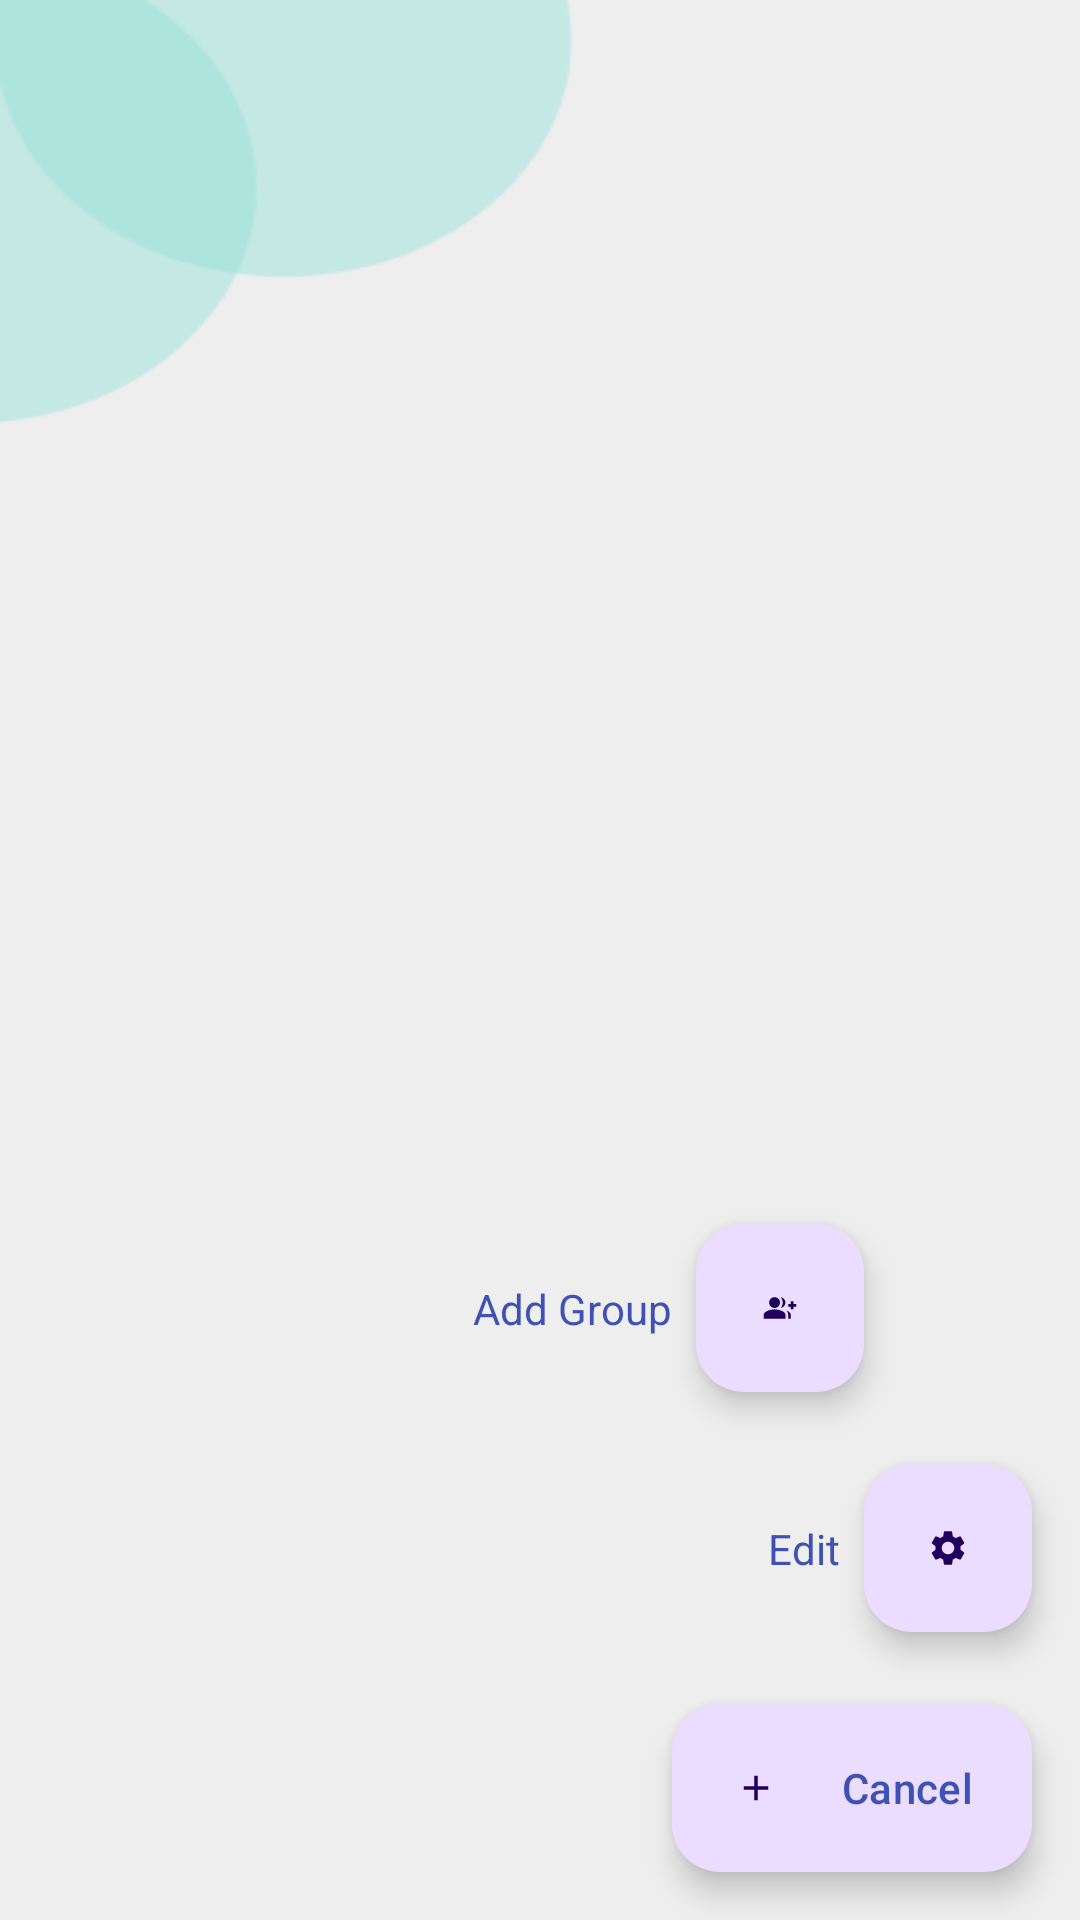

Icon bounding boxes for this 1080*1920 phone screenshot, format (x1, y1, x2, y2):
groups: (763, 1297, 797, 1319)
